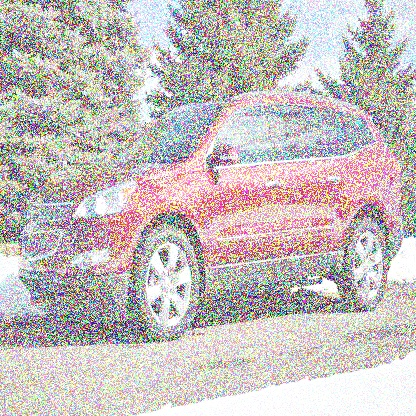Vehicle: (17, 84, 406, 340)
